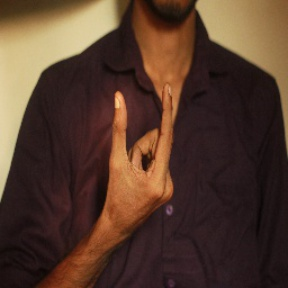U: (94, 78, 186, 214)
